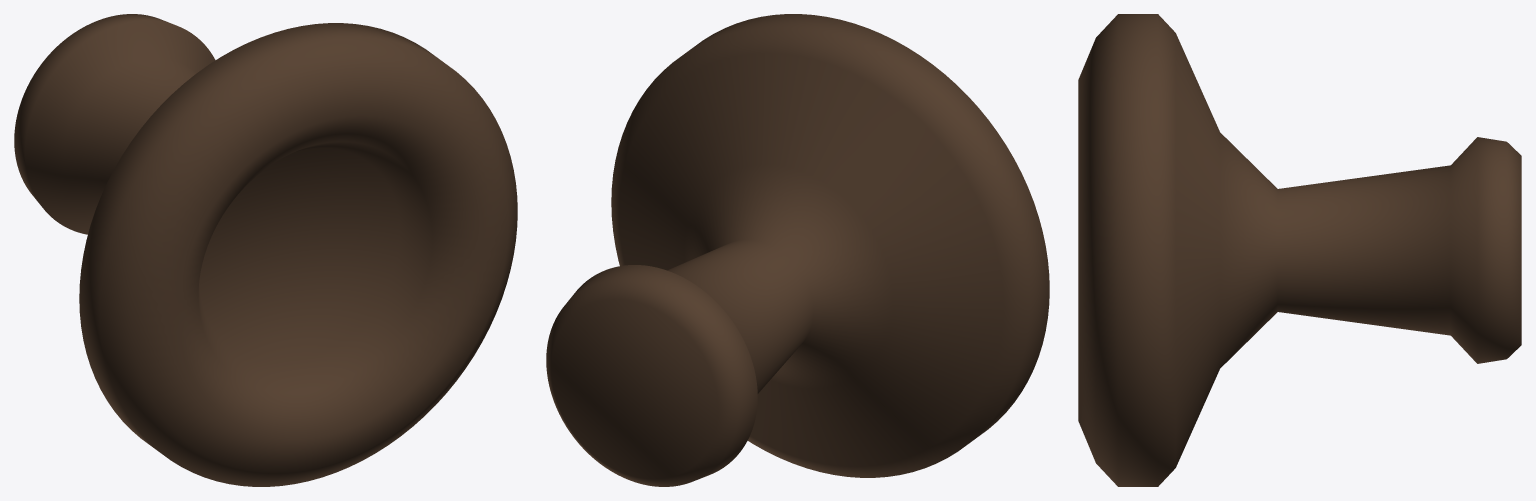
The model's file is eurofit-k-62301borb.glb.
3 renders of one model, left to right at view 1: azimuth 30°, elevation 25°; view 2: azimuth 150°, elevation 25°; view 3: azimuth 270°, elevation 25°, orthographic. The views are drawn at different scales.
Visible parts, largest first — view 1: Turned knob with stepped rim; view 2: Turned knob with stepped rim; view 3: Turned knob with stepped rim.
Part boxes in pixels (x1,y1,x2,y2): Turned knob with stepped rim: [14, 14, 517, 486]; Turned knob with stepped rim: [546, 14, 1049, 486]; Turned knob with stepped rim: [1078, 14, 1521, 486].
Size of the model in its own units: 0.032 by 0.032 by 0.03.
